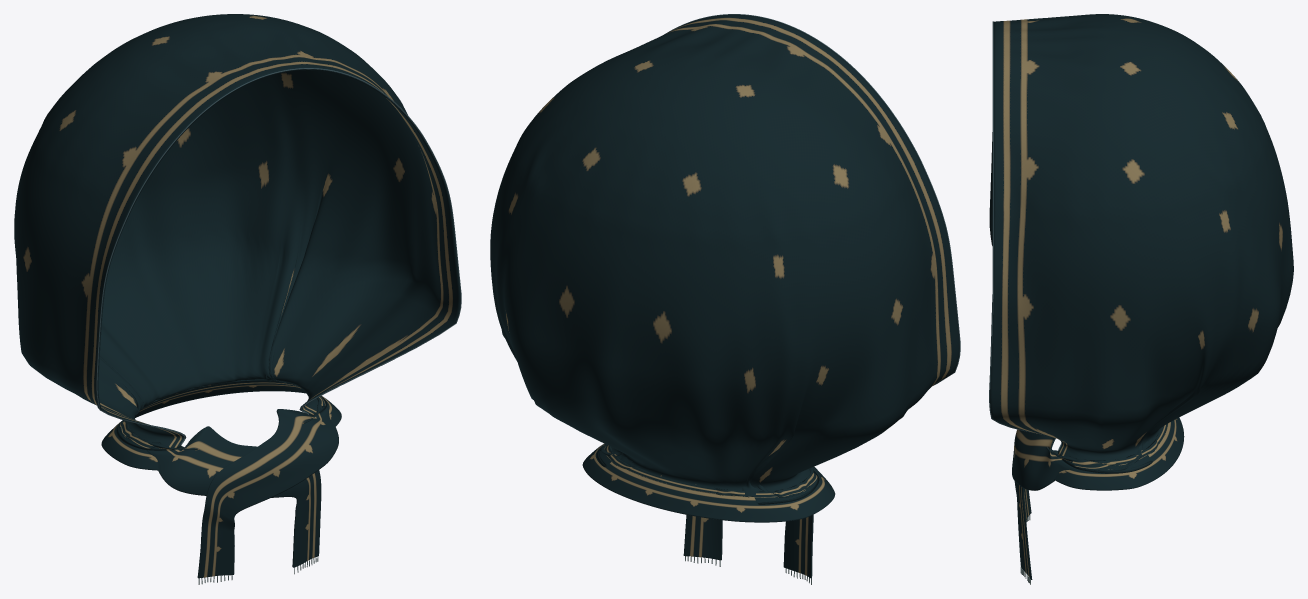
File: Masculine-shirtless-pashmina237-headgear.glb
3 renders of one model, left to right at view 1: azimuth 30°, elevation 25°; view 2: azimuth 150°, elevation 25°; view 3: azimuth 270°, elevation 25°, orthographic. The views are drawn at different scales.
Parts seen in each view (by area): view 1: 226 headgear / Headwear / continuous woven pashmina237, 226 headgear / Headwear / face edge237; view 2: 226 headgear / Headwear / continuous woven pashmina237, 226 headgear / Headwear / face edge237; view 3: 226 headgear / Headwear / continuous woven pashmina237, 226 headgear / Headwear / face edge237.
Part boxes in pixels (<box>): 226 headgear / Headwear / continuous woven pashmina237: <box>14,14,460,578</box>; 226 headgear / Headwear / face edge237: <box>96,68,461,445</box>; 226 headgear / Headwear / continuous woven pashmina237: <box>490,14,959,578</box>; 226 headgear / Headwear / face edge237: <box>664,14,960,385</box>; 226 headgear / Headwear / continuous woven pashmina237: <box>989,14,1293,579</box>; 226 headgear / Headwear / face edge237: <box>989,21,1061,450</box>.
Size of the model in its own units: 1.03 by 1.35 by 0.7127.
Materials: 3 (1 with a texture image).
